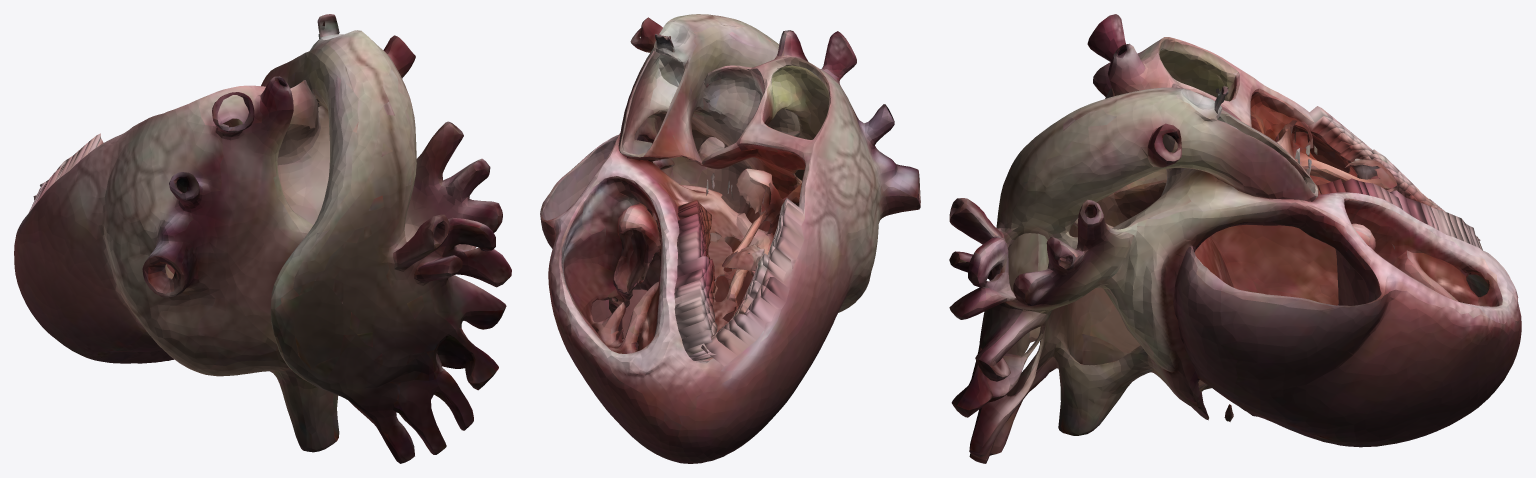
The model's file is strained-Heart.glb.
3 views of the same model, side by side, from view 1: azimuth 30°, elevation 25°; view 2: azimuth 150°, elevation 25°; view 3: azimuth 270°, elevation 25° (orthographic). The views are drawn at different scales.
Parts seen in each view (by area): view 1: StrainedHeart; view 2: StrainedHeart; view 3: StrainedHeart.
Part boxes in pixels (x1,y1,x2,y2): StrainedHeart: (14, 14, 511, 463); StrainedHeart: (540, 14, 920, 463); StrainedHeart: (949, 14, 1521, 463).
Bounding box in the file's own units: 0.6927 × 0.7589 × 0.9998.
1 material, 1 textured.
